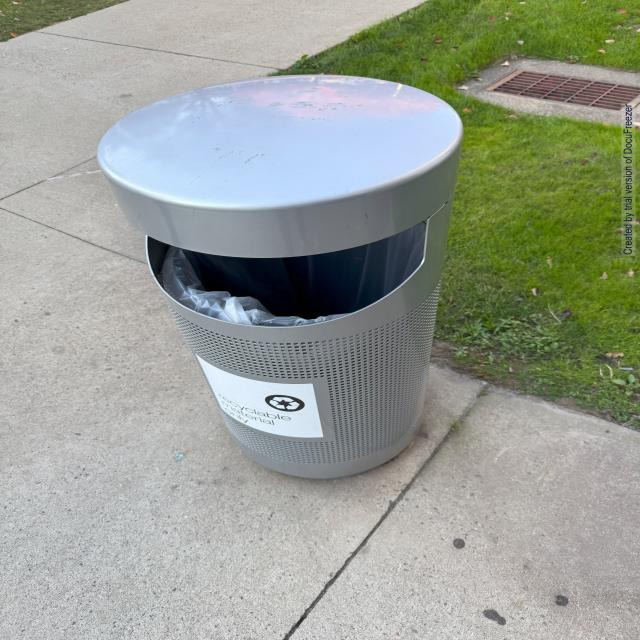Trash bin: (82, 64, 448, 514)
